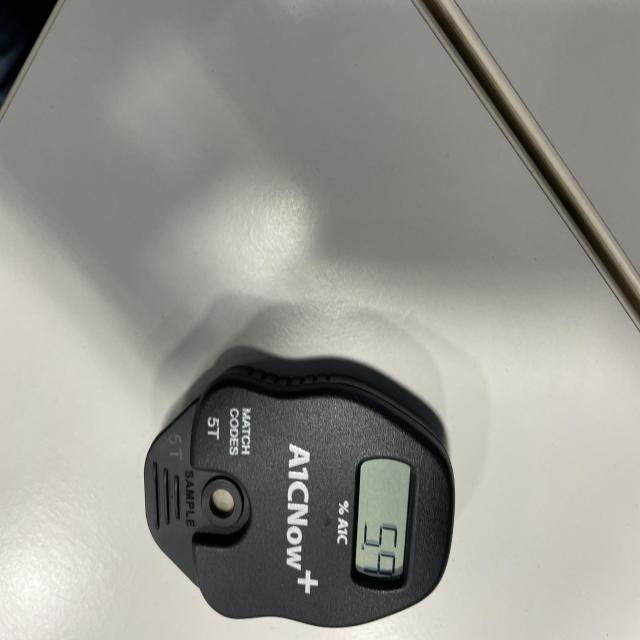hba1c: (143, 349, 456, 632)
